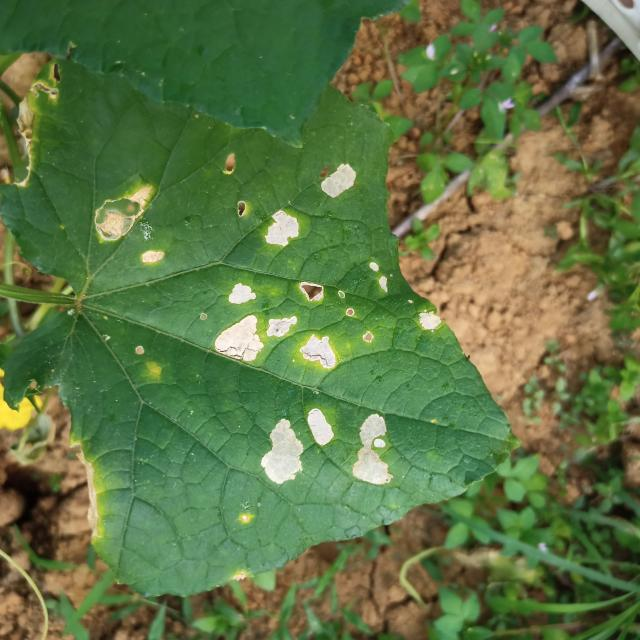disease_cucumber: (214, 279, 337, 372), (92, 185, 167, 268), (260, 407, 334, 485), (350, 412, 395, 487), (320, 162, 357, 198), (265, 210, 300, 248), (366, 260, 392, 298), (417, 307, 442, 333)
